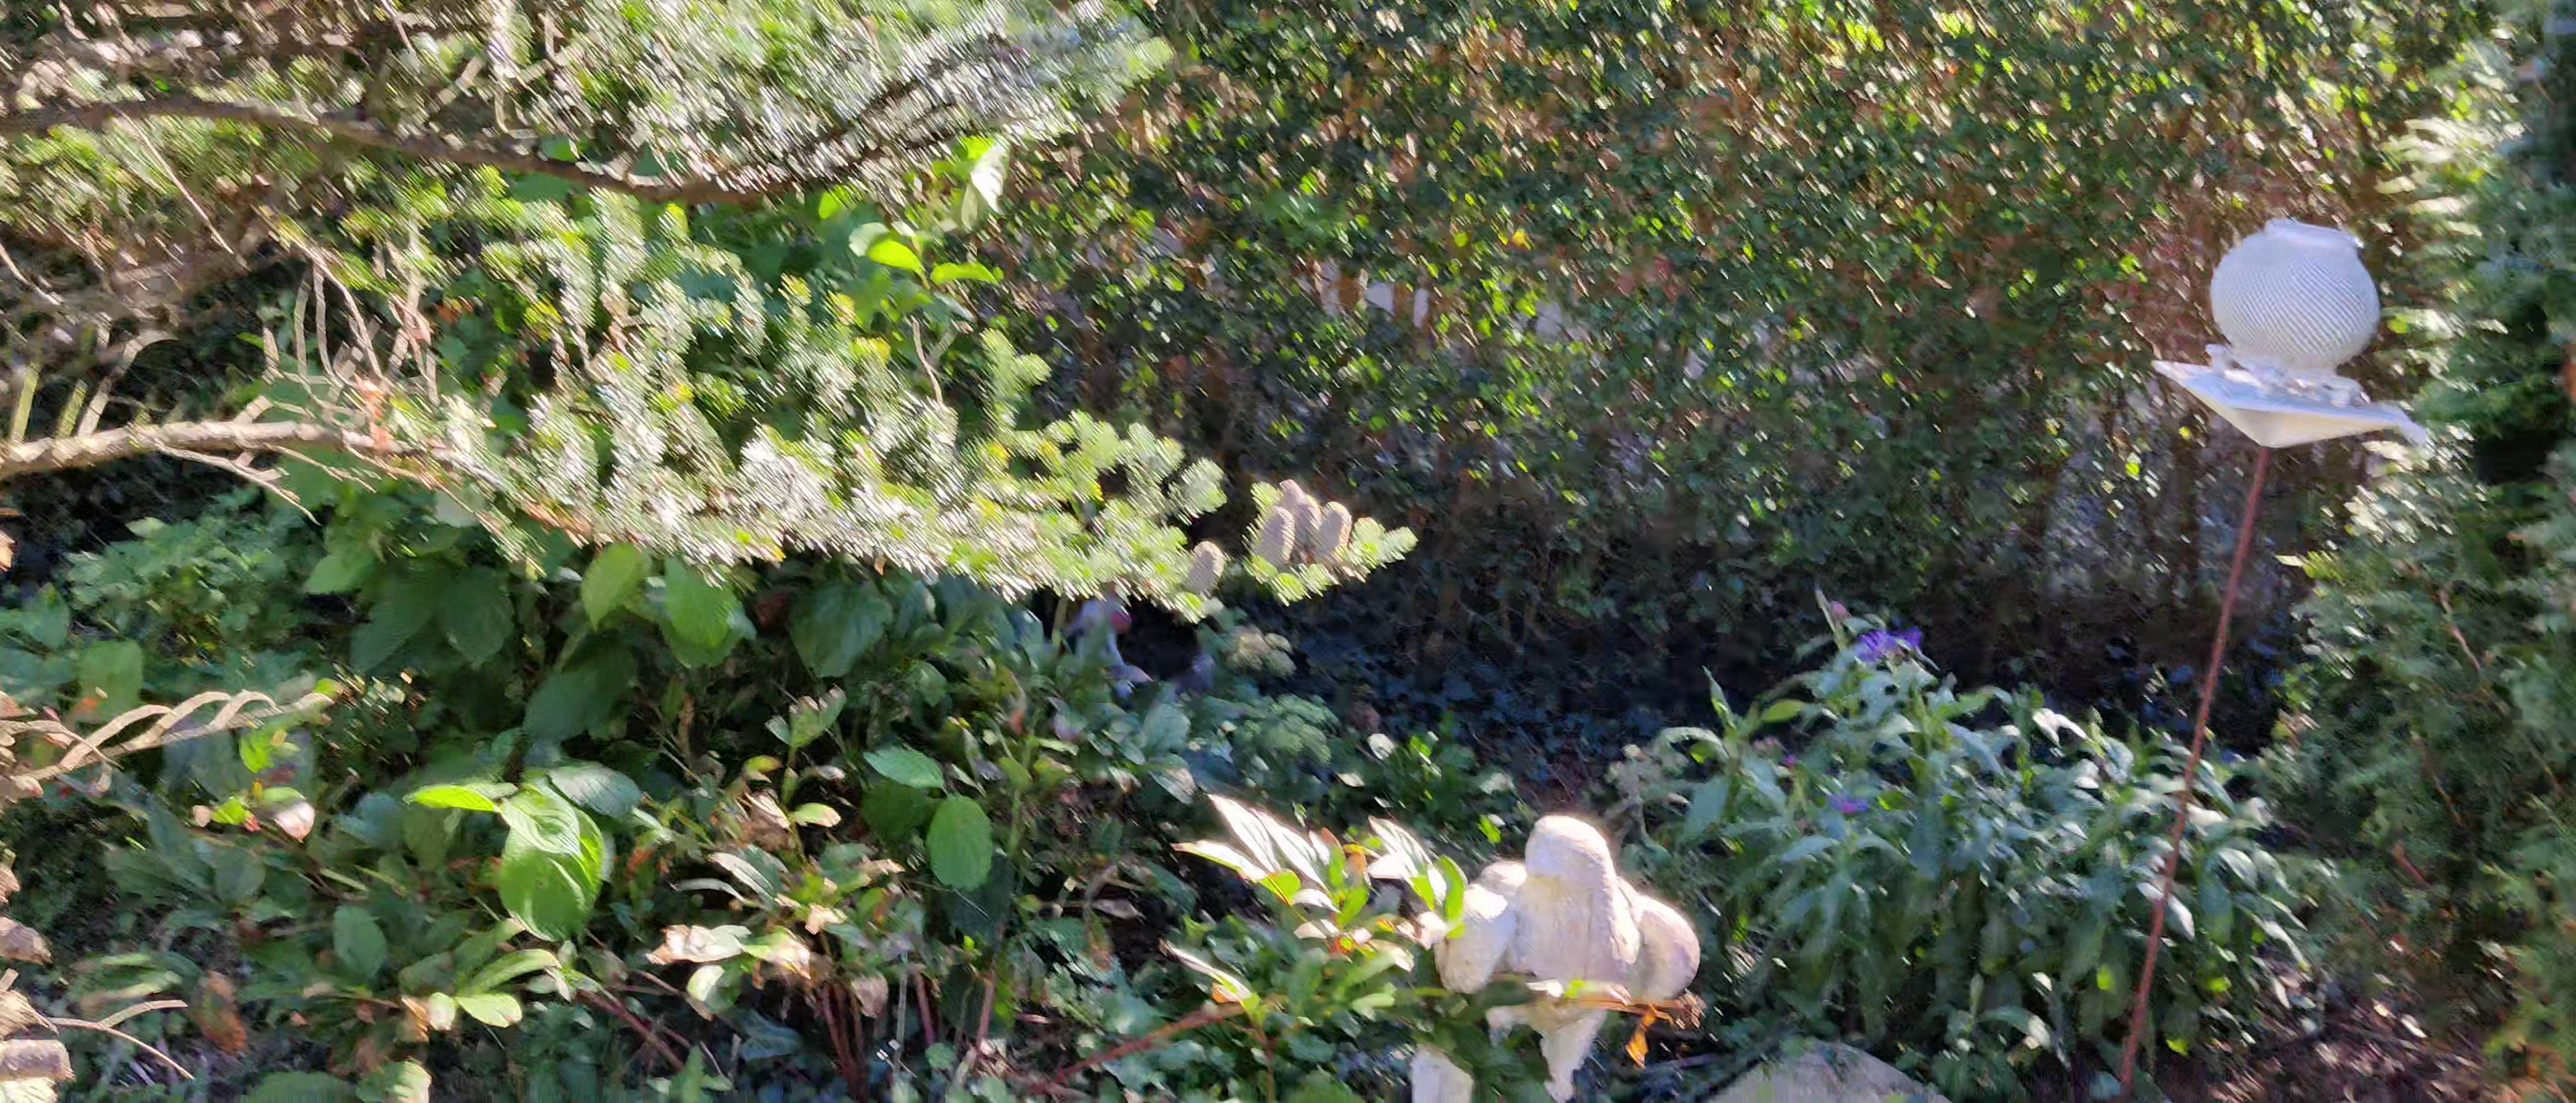Dog: (1035, 551, 1232, 707)
